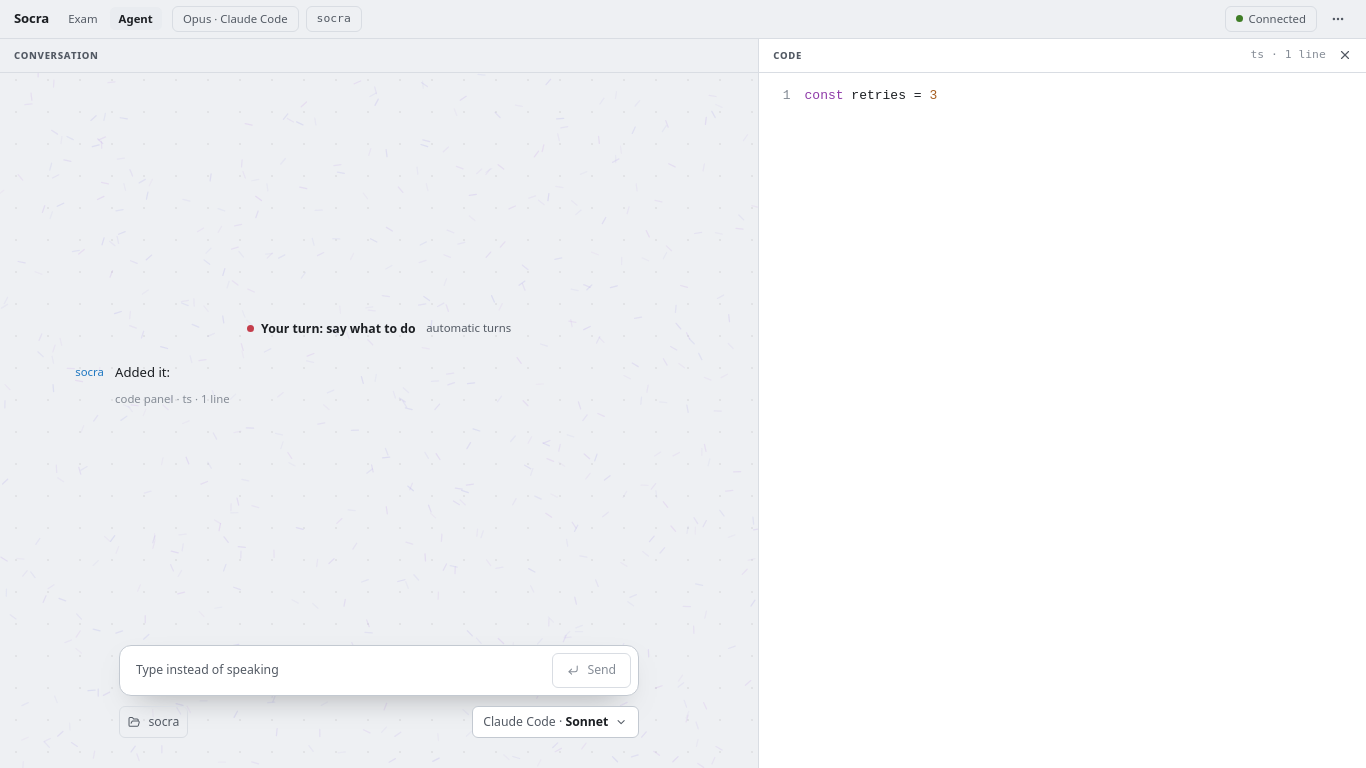
Test: AgentApp › opens the code from a reply in its own pane and can close it
Check: the element "Code" shows "const retries = 3", box [759, 38, 1365, 767]
Check: the list named "Conversation" does not show "const retries = 3", box [75, 363, 230, 406]
Click the button named "Close code" at (1345, 55), box [1333, 43, 1357, 67]
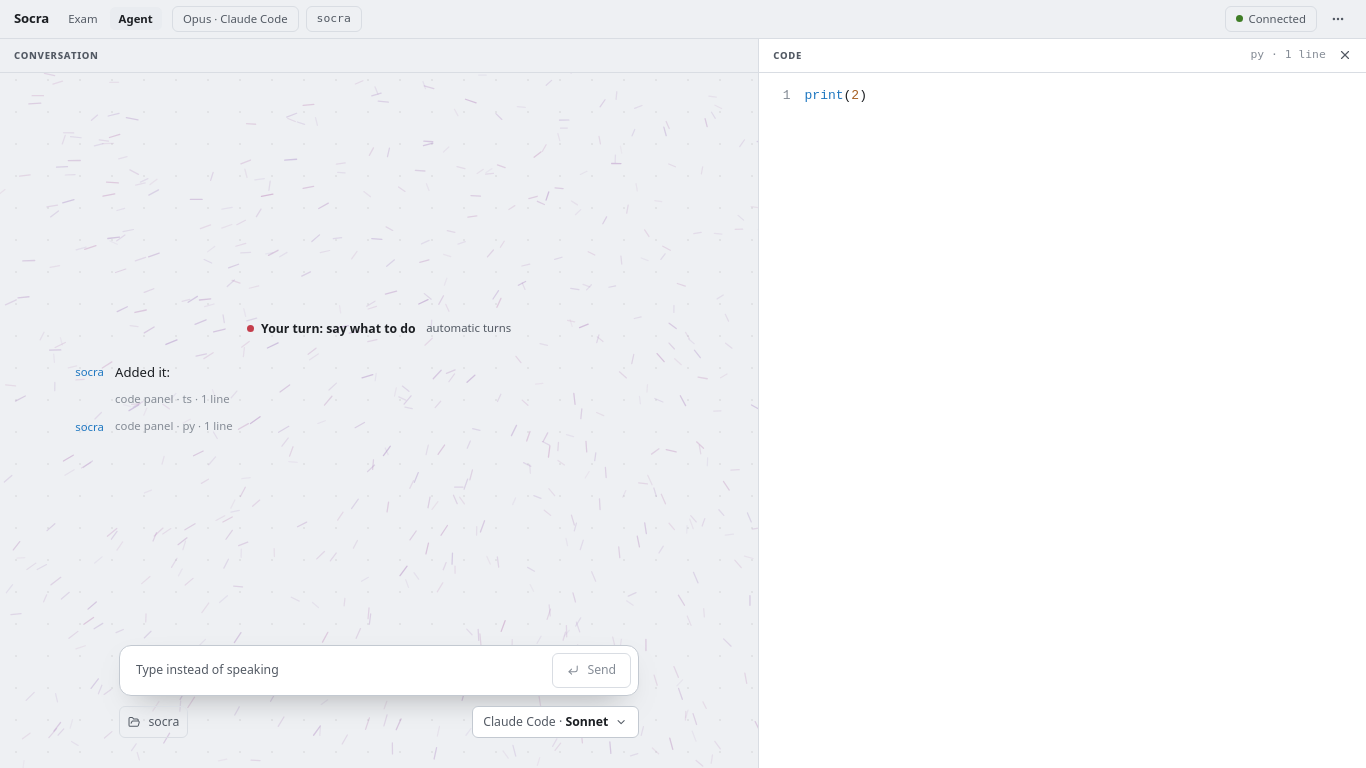
Check: the element "Code" shows "print(2)", box [759, 38, 1365, 767]
